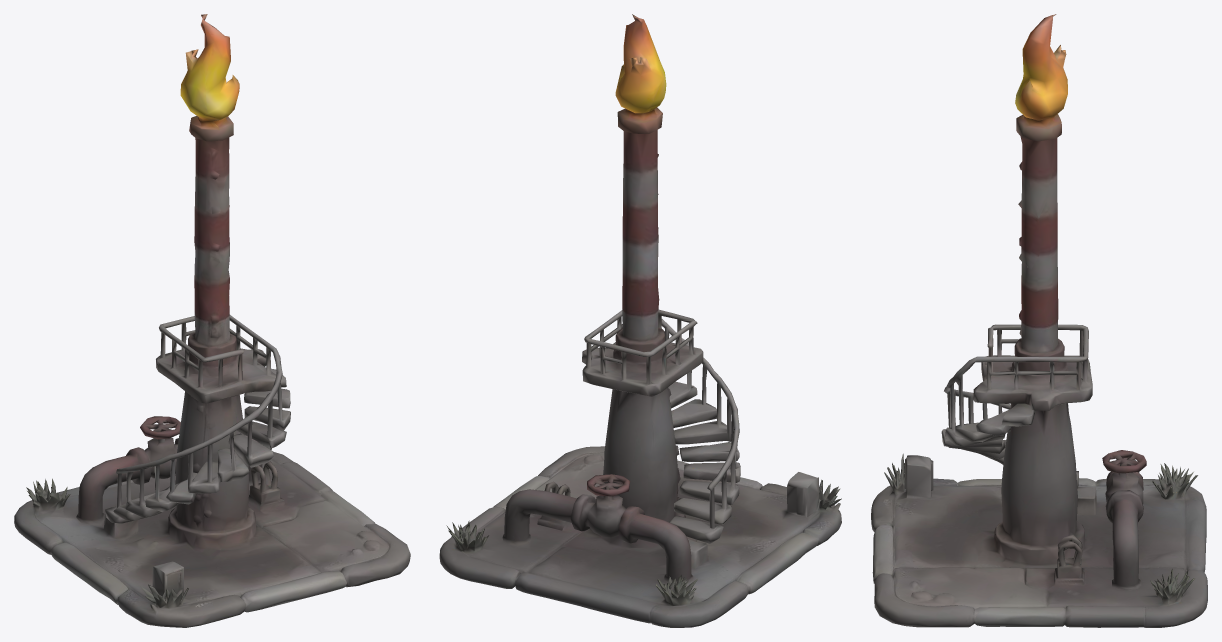
File: factory_gate_chimney.glb
3 views of the same model, side by side, from view 1: azimuth 30°, elevation 25°; view 2: azimuth 150°, elevation 25°; view 3: azimuth 270°, elevation 25° (orthographic). The views are drawn at different scales.
Parts seen in each view (by area): view 1: tripo_node_d6c2daea-2ec8-44a2-9419-4c121da88768; view 2: tripo_node_d6c2daea-2ec8-44a2-9419-4c121da88768; view 3: tripo_node_d6c2daea-2ec8-44a2-9419-4c121da88768.
Boxes of the visible parts, <box> form: tripo_node_d6c2daea-2ec8-44a2-9419-4c121da88768: <box>14,14,410,627</box>; tripo_node_d6c2daea-2ec8-44a2-9419-4c121da88768: <box>439,14,841,627</box>; tripo_node_d6c2daea-2ec8-44a2-9419-4c121da88768: <box>871,14,1207,627</box>.
Bounding box in the file's own units: 0.5427 × 1 × 0.5581.
Materials: 1 (1 with a texture image).
